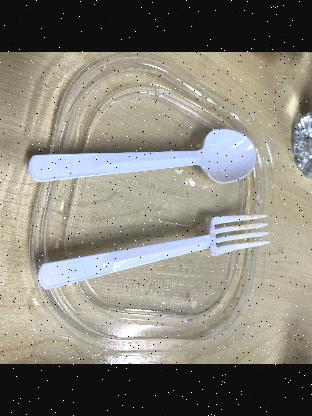Others: (29, 206, 273, 294), (23, 124, 261, 206)
